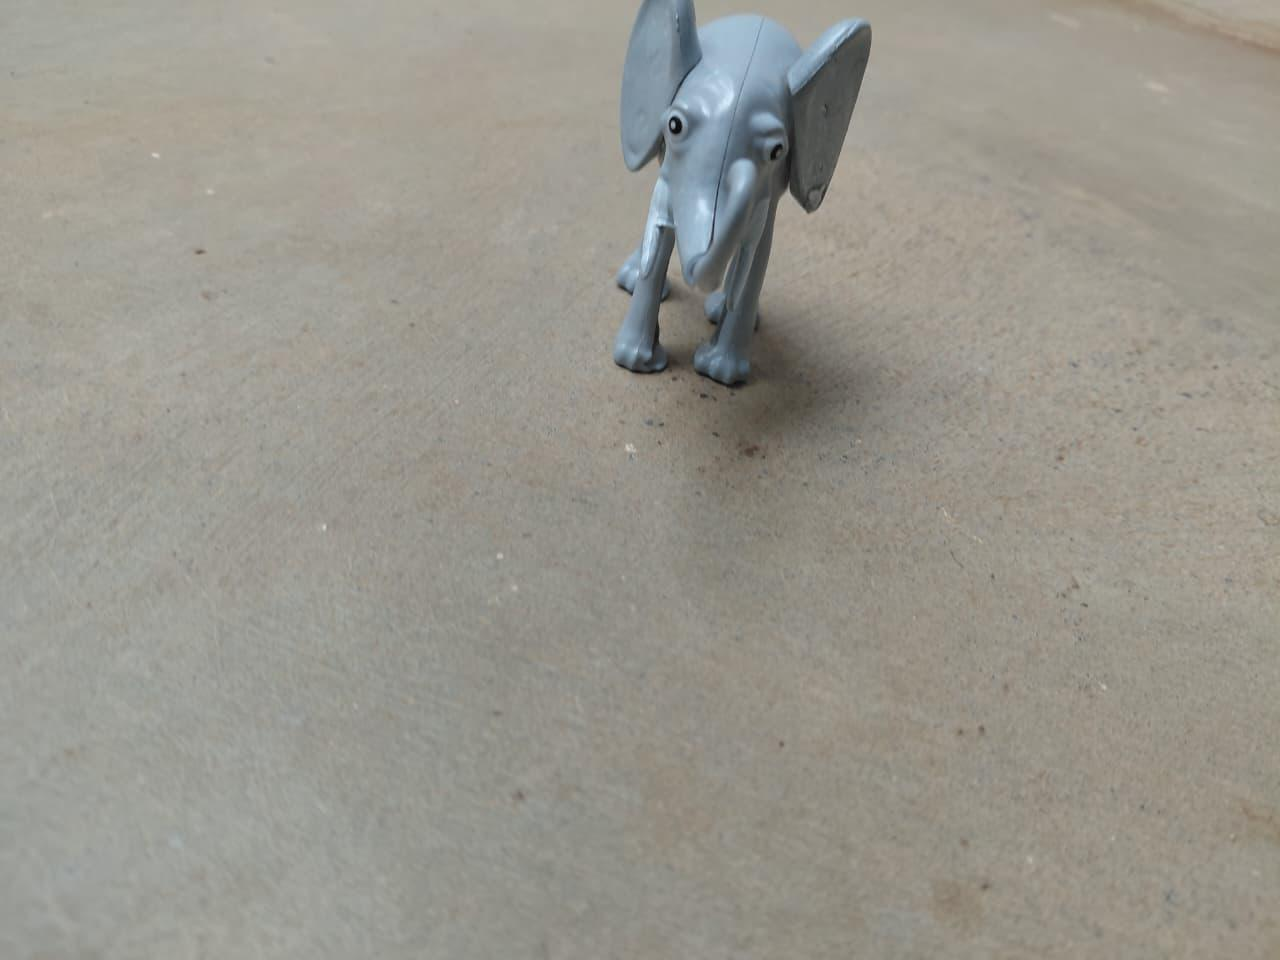elephant: (590, 6, 879, 389)
